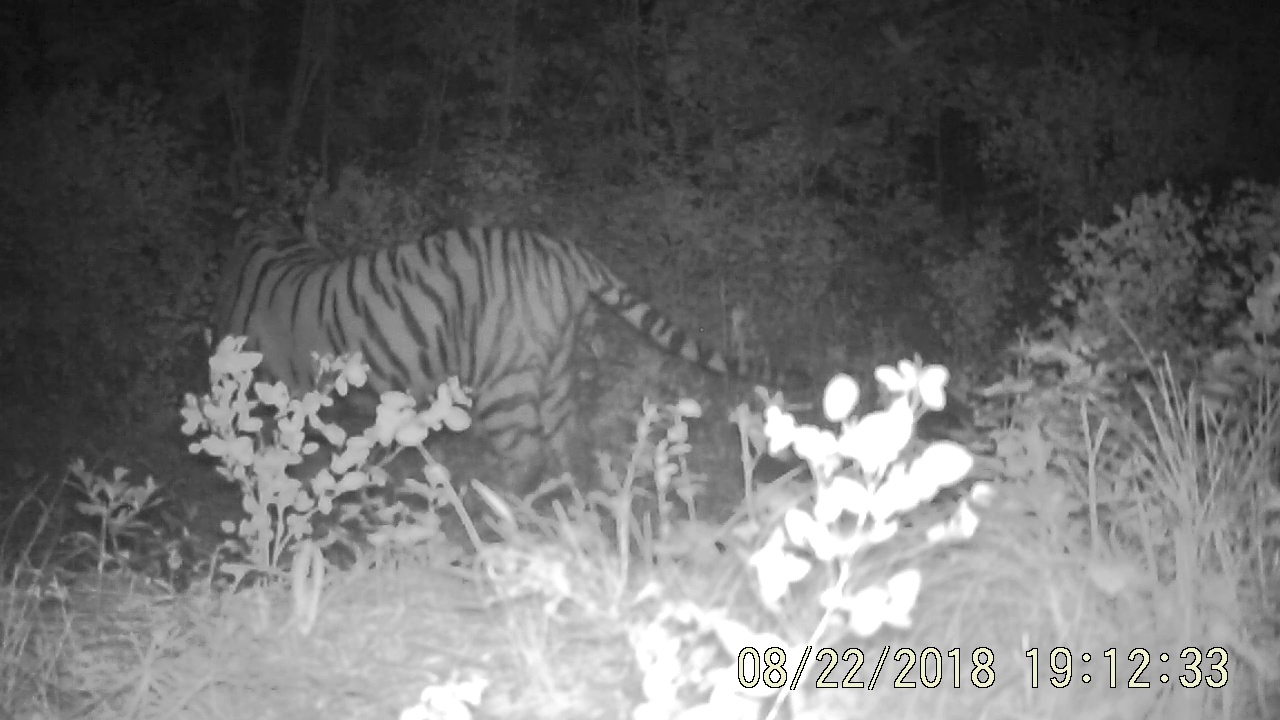Tiger: (176, 151, 869, 560)
